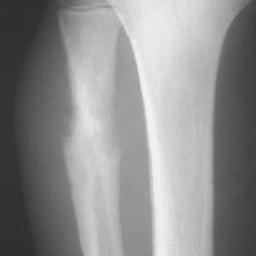cancer: (58, 51, 120, 248)
